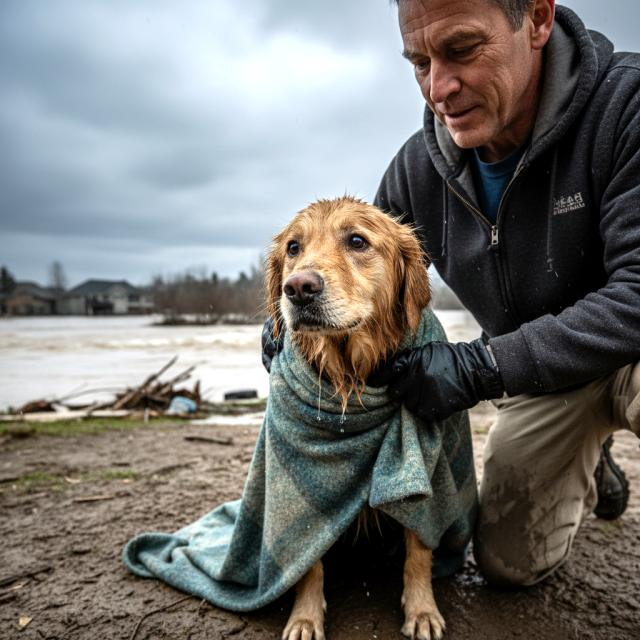civilian: (369, 0, 640, 587)
dog: (242, 185, 463, 640)
